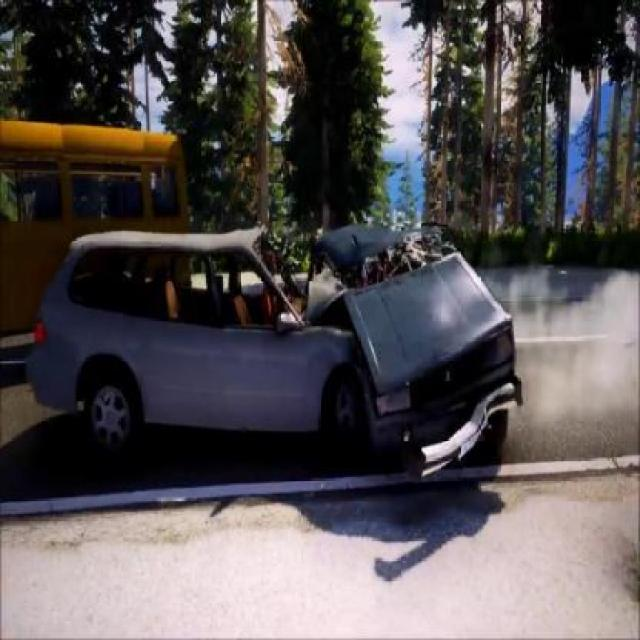accident: (58, 204, 514, 444)
